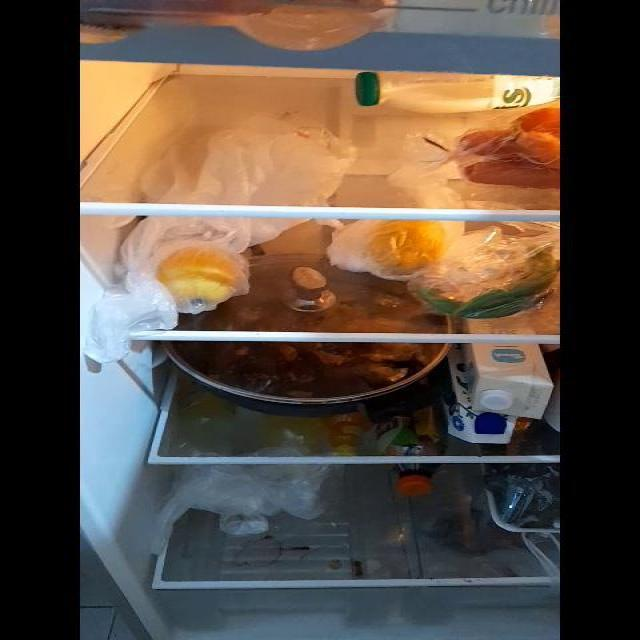broccoli: (488, 474, 556, 531)
carrot: (452, 114, 561, 183)
green chilies: (431, 251, 560, 317)
lemon: (157, 242, 236, 306), (368, 216, 444, 276)
milk: (356, 66, 555, 111), (457, 344, 547, 442)
